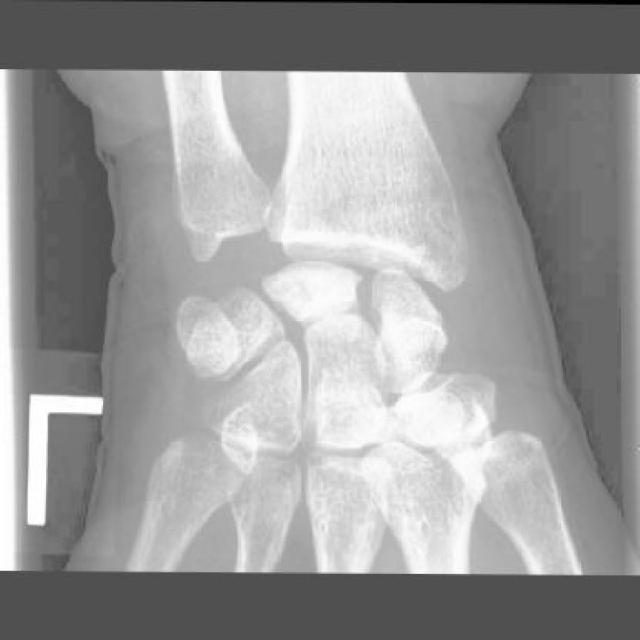Fracture: (266, 257, 359, 329)
